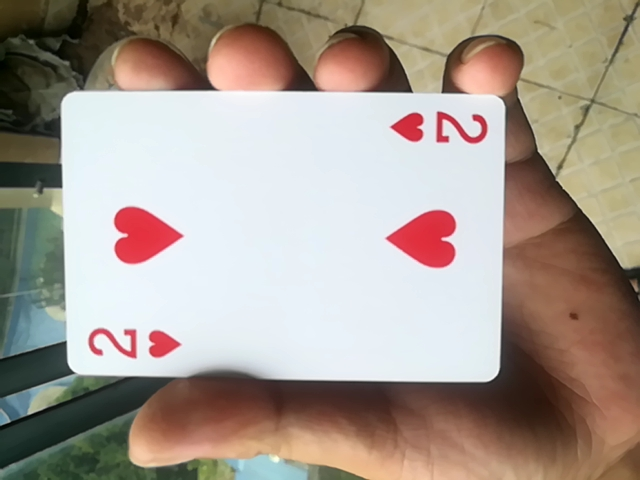hx 2: (58, 86, 503, 390)
